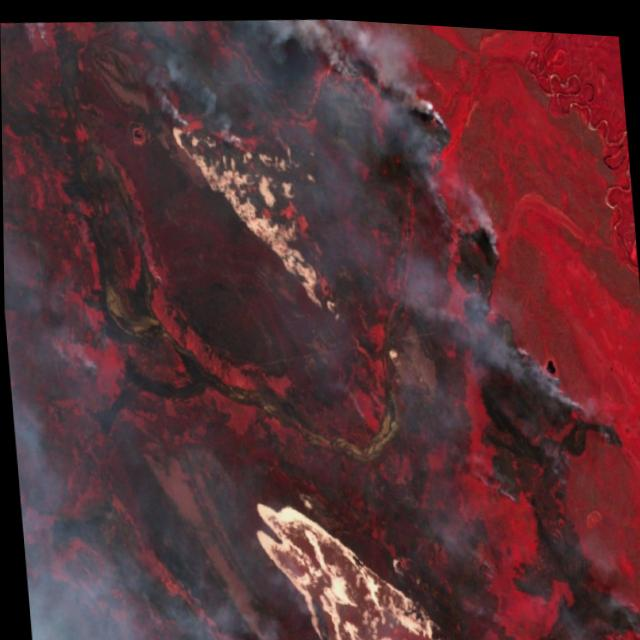fire: (240, 11, 640, 640)
